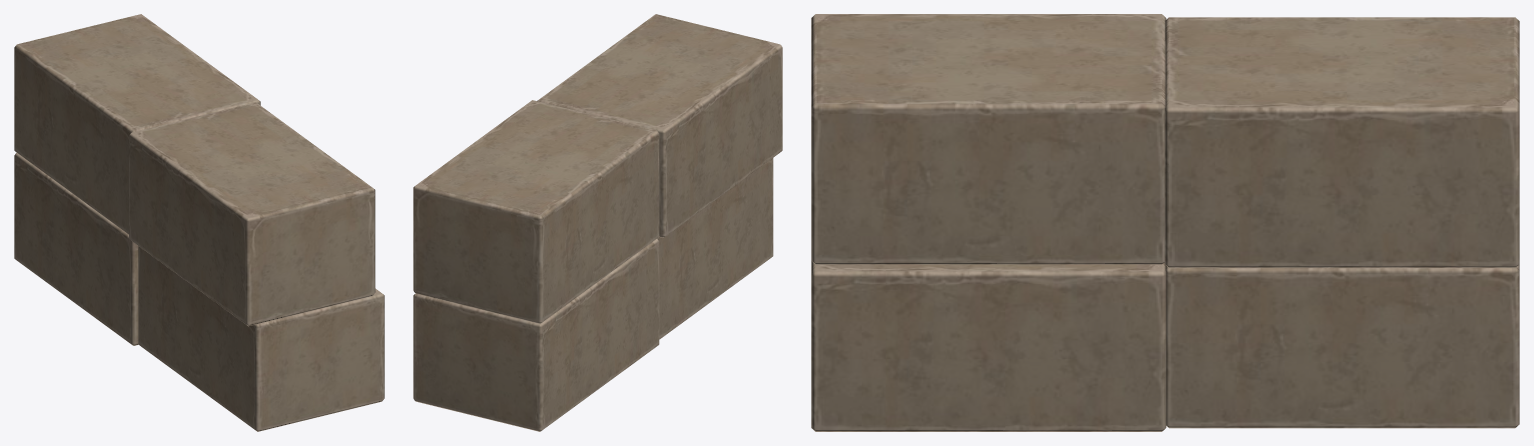
File: SM_construction_block_02.glb
The picture shows the model from 3 angles, left to right: view 1: azimuth 30°, elevation 25°; view 2: azimuth 150°, elevation 25°; view 3: azimuth 270°, elevation 25°; orthographic projection. The views are drawn at different scales.
Parts seen in each view (by area): view 1: SM_construction_block_02; view 2: SM_construction_block_02; view 3: SM_construction_block_02.
Part boxes in pixels (<box>): SM_construction_block_02: <box>14,14,384,431</box>; SM_construction_block_02: <box>413,14,782,431</box>; SM_construction_block_02: <box>811,14,1519,431</box>.
Bounding box in the file's own units: 1.61 × 2.39 × 4.79.
1 material, 1 textured.
